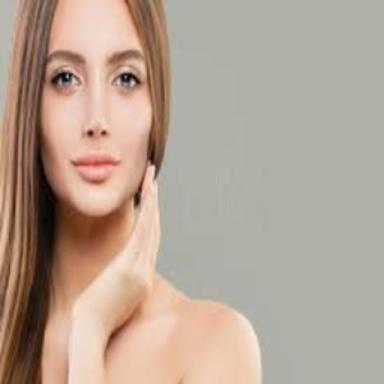normal skin: (41, 0, 260, 384)
